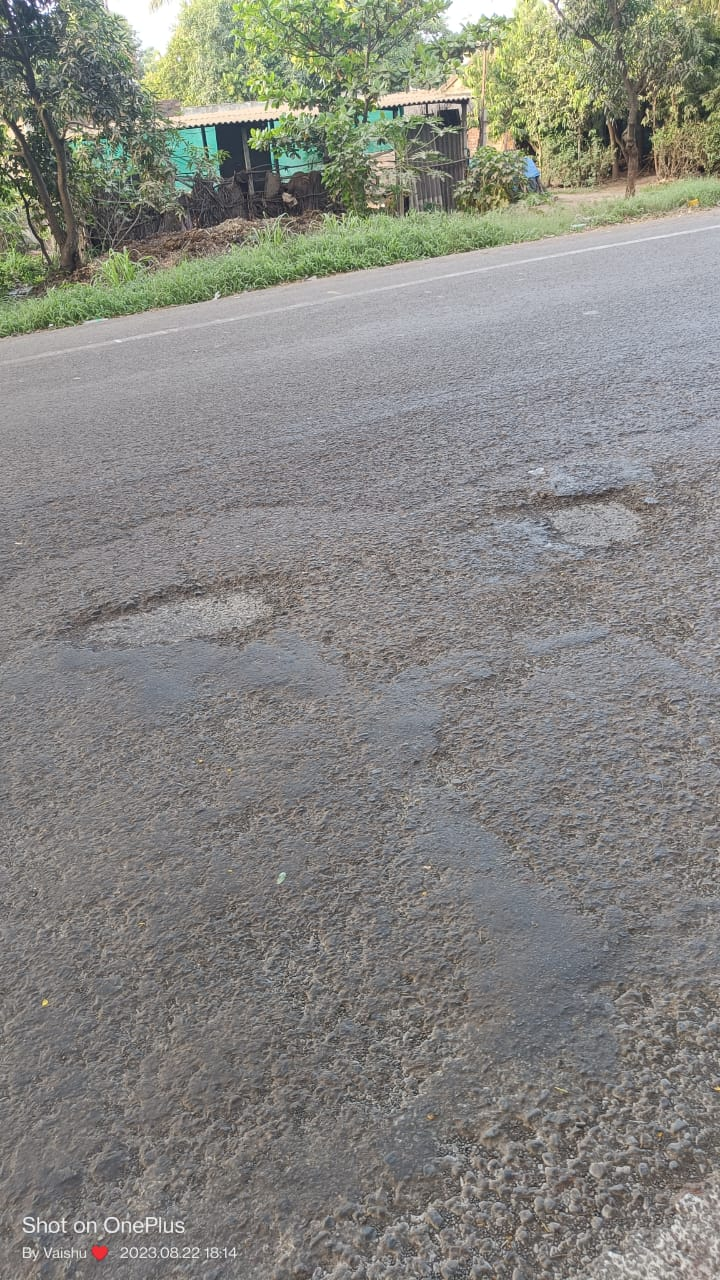Pothole: (60, 567, 291, 655), (488, 485, 652, 551)
